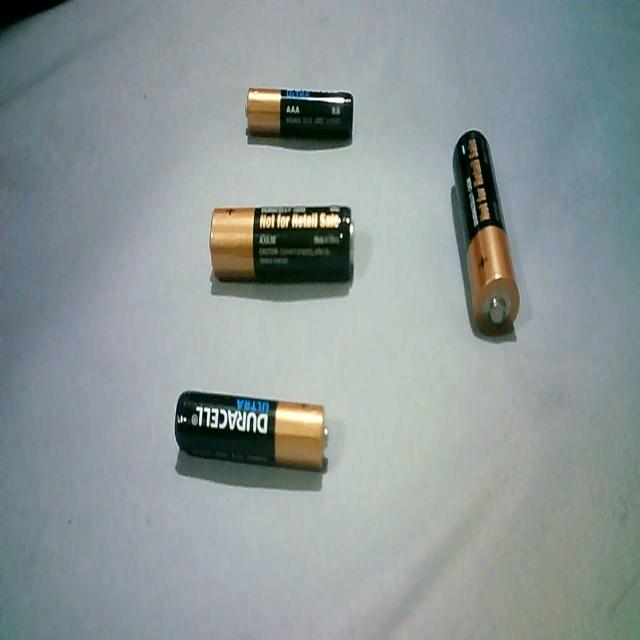AA: (448, 125, 527, 342), (205, 194, 359, 286)
AAA: (170, 377, 330, 482), (240, 77, 359, 151)
